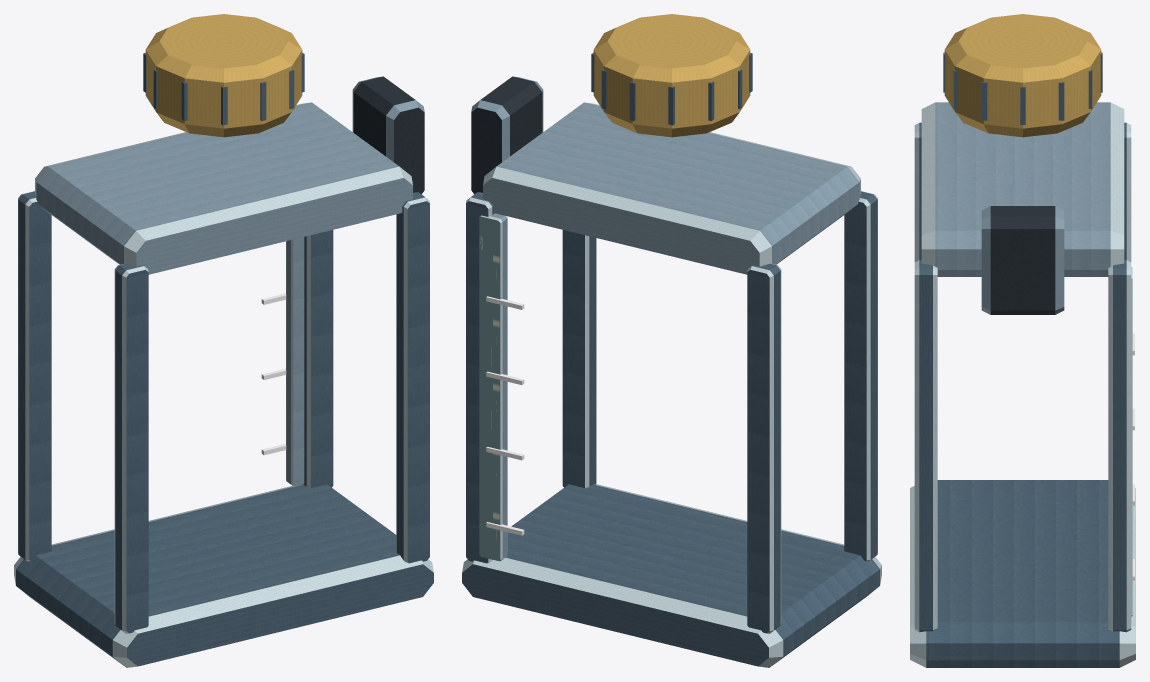
The model's file is water_flask_0.obj.
The picture shows the model from 3 angles, left to right: view 1: azimuth 30°, elevation 25°; view 2: azimuth 150°, elevation 25°; view 3: azimuth 270°, elevation 25°; orthographic projection.
Visible parts, largest first — view 1: water_flask_0; view 2: water_flask_0; view 3: water_flask_0.
Boxes of the visible parts, x1,y1,x2,y2 form: water_flask_0: (14, 14, 433, 667); water_flask_0: (462, 14, 881, 667); water_flask_0: (910, 14, 1135, 667).
Size of the model in its own units: 0.5375 by 0.8312 by 0.3062.
